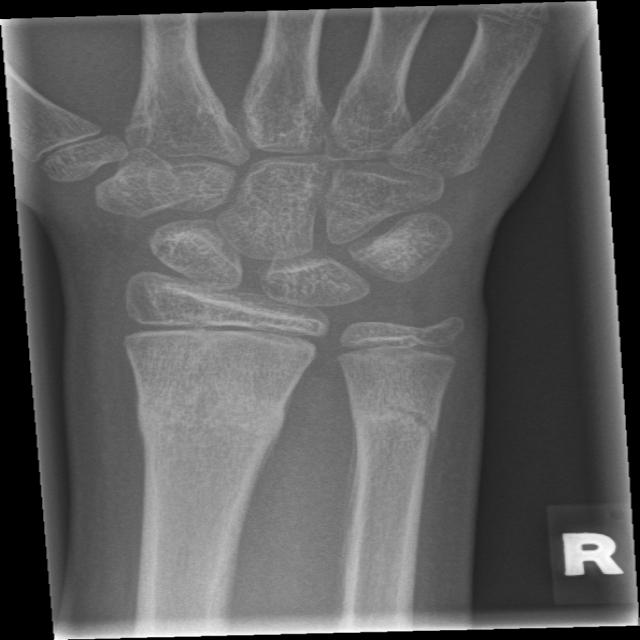radius fracture: (87, 372, 304, 517)
ulna fracture: (342, 346, 462, 518)
